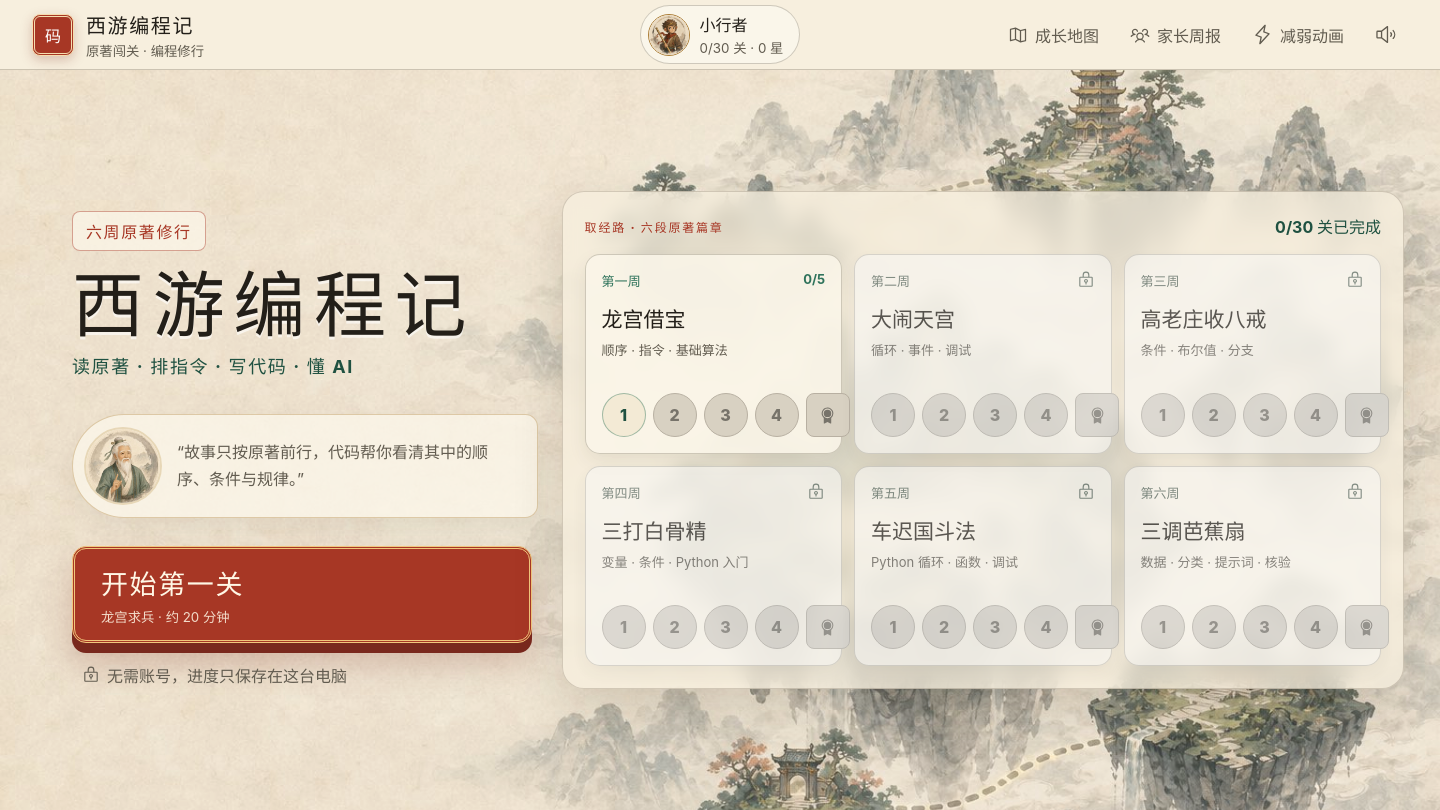
西游编程记 › shows conflict backup and reload actions when CAS detects a stale tab without a storage event
The image size is (1440, 810).
Click the button "减弱动画". click: (1298, 34)
box: [1240,12,1356,56]
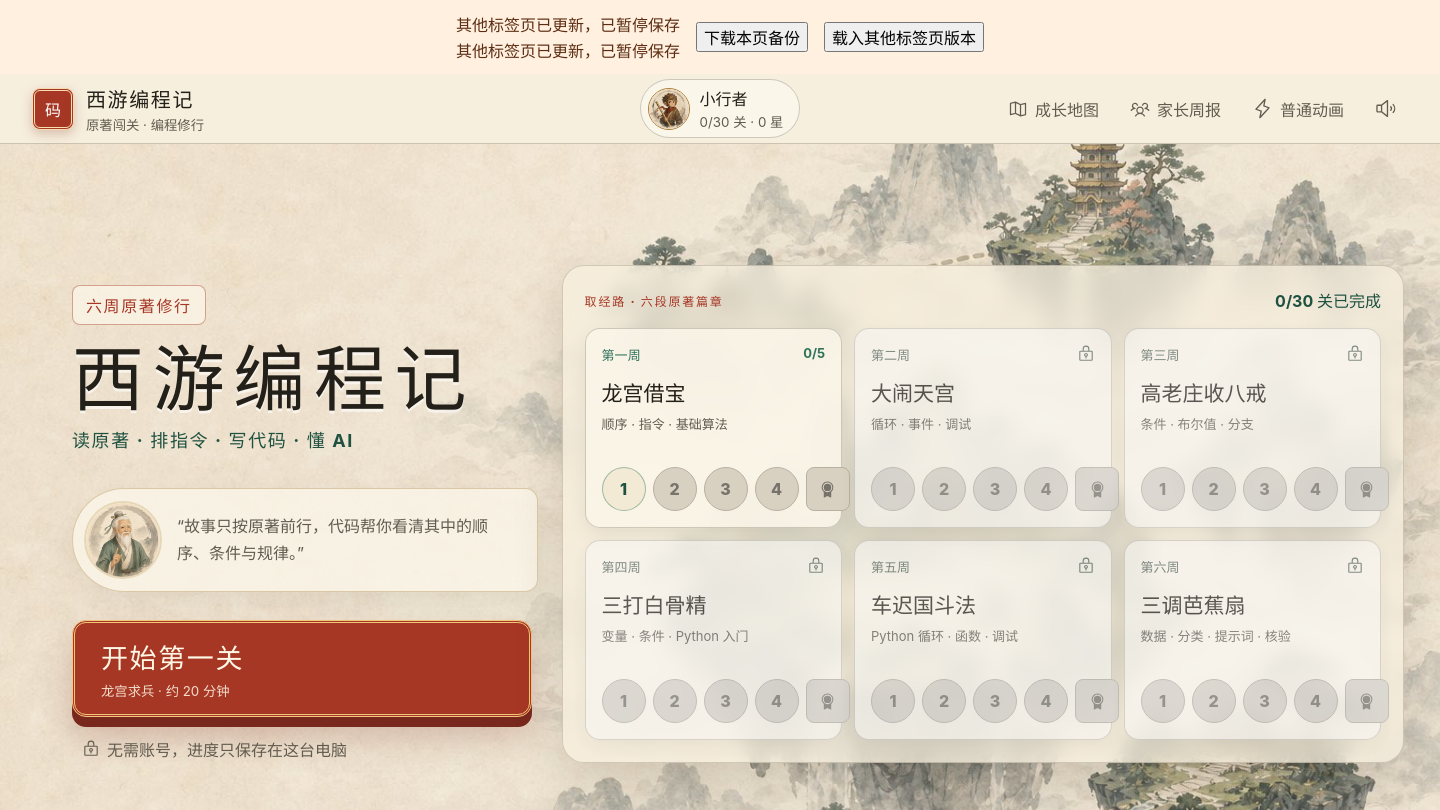
Check: the message shows "其他标签页已更新，已暂停保存", box [456,15,680,35]
Check: the button "下载本页备份" is shown, box [696,22,808,52]
Check: the button "载入其他标签页版本" is shown, box [824,22,984,52]
